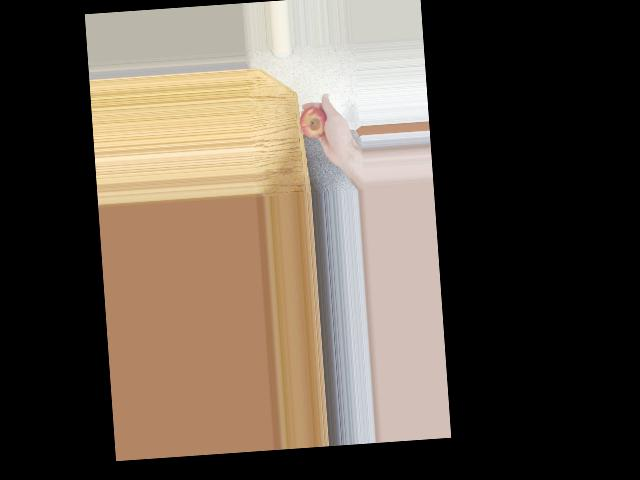apple: (298, 105, 330, 142)
